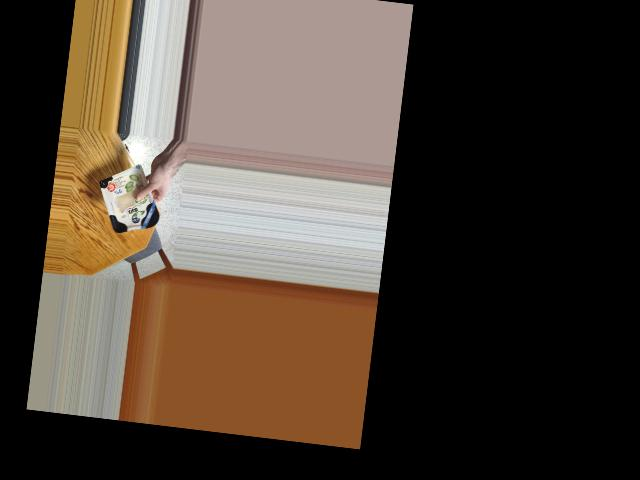cheese: (97, 167, 168, 238)
